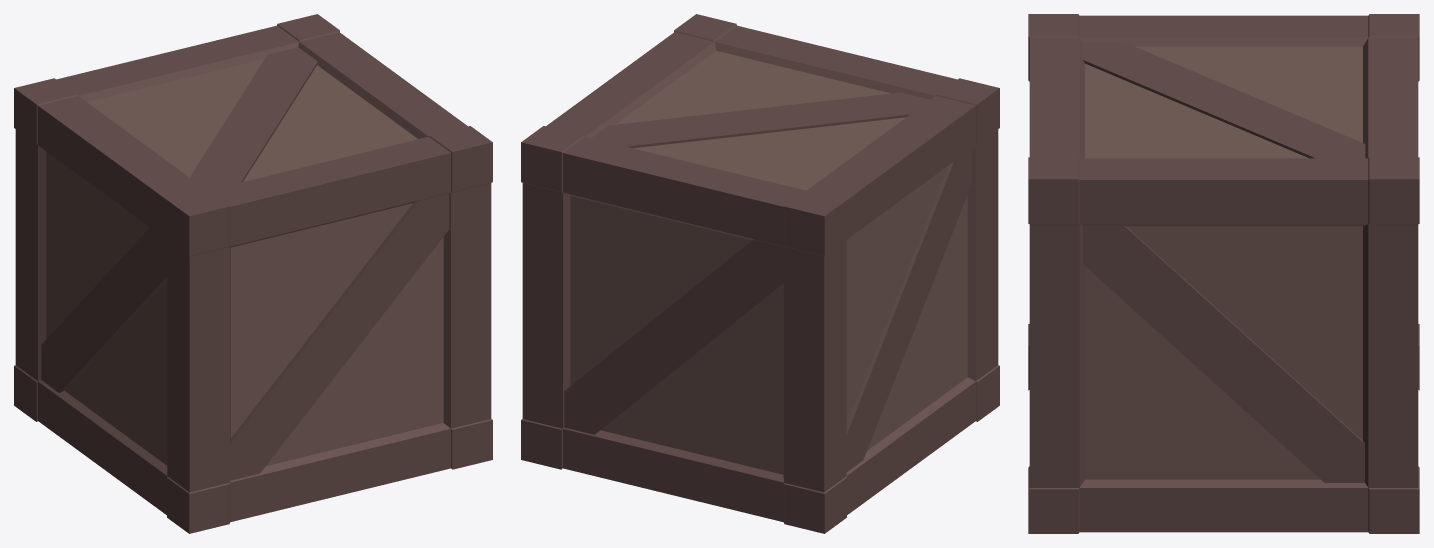
3 renders of one model, left to right at view 1: azimuth 30°, elevation 25°; view 2: azimuth 150°, elevation 25°; view 3: azimuth 270°, elevation 25°, orthographic. The views are drawn at different scales.
Visible parts, largest first — view 1: box_mat; view 2: box_mat; view 3: box_mat.
Boxes of the visible parts, <box> form: box_mat: <box>14,14,492,533</box>; box_mat: <box>521,14,999,533</box>; box_mat: <box>1028,14,1419,533</box>.
Size of the model in its own units: 187 by 187 by 187.
